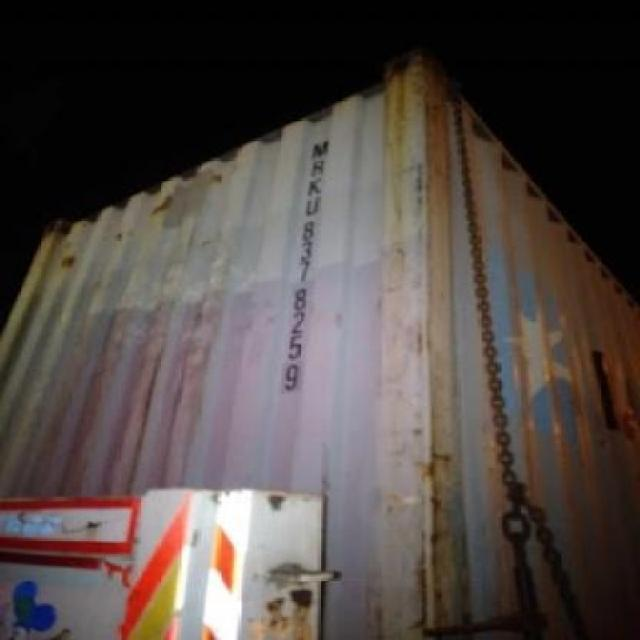container_number: (272, 129, 336, 399)
